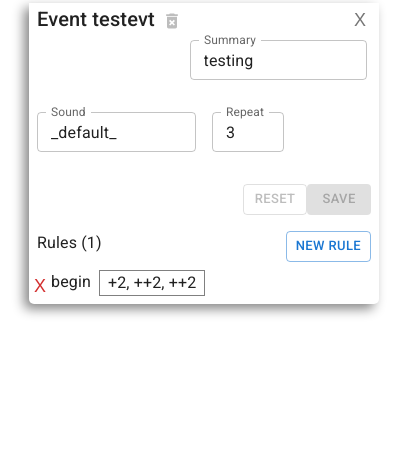
it: eventsutil - modify › handles new rule and cancel
Step 1. Click the button "New Rule" → x=328, y=246, box [286,231,371,262]
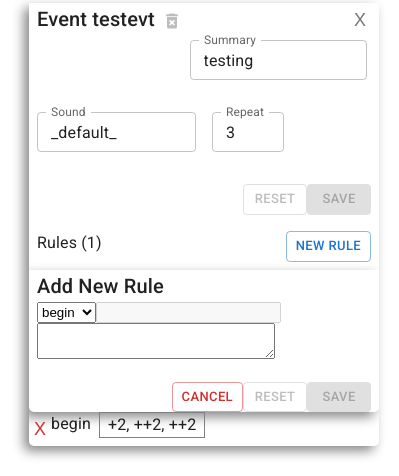
Check: the button with test id "newEvCancel" is shown
Step 2. Click the button with test id "newEvCancel" → x=207, y=397, box [172,382,243,412]
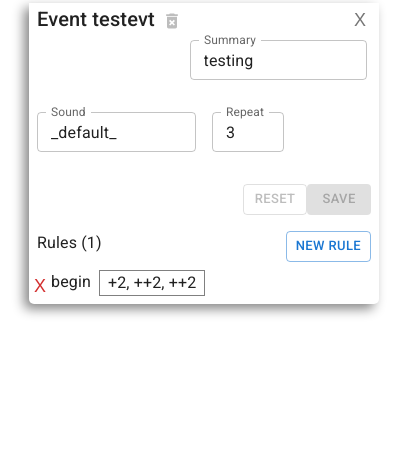
Check: the button with test id "newEvCancel" is gone
